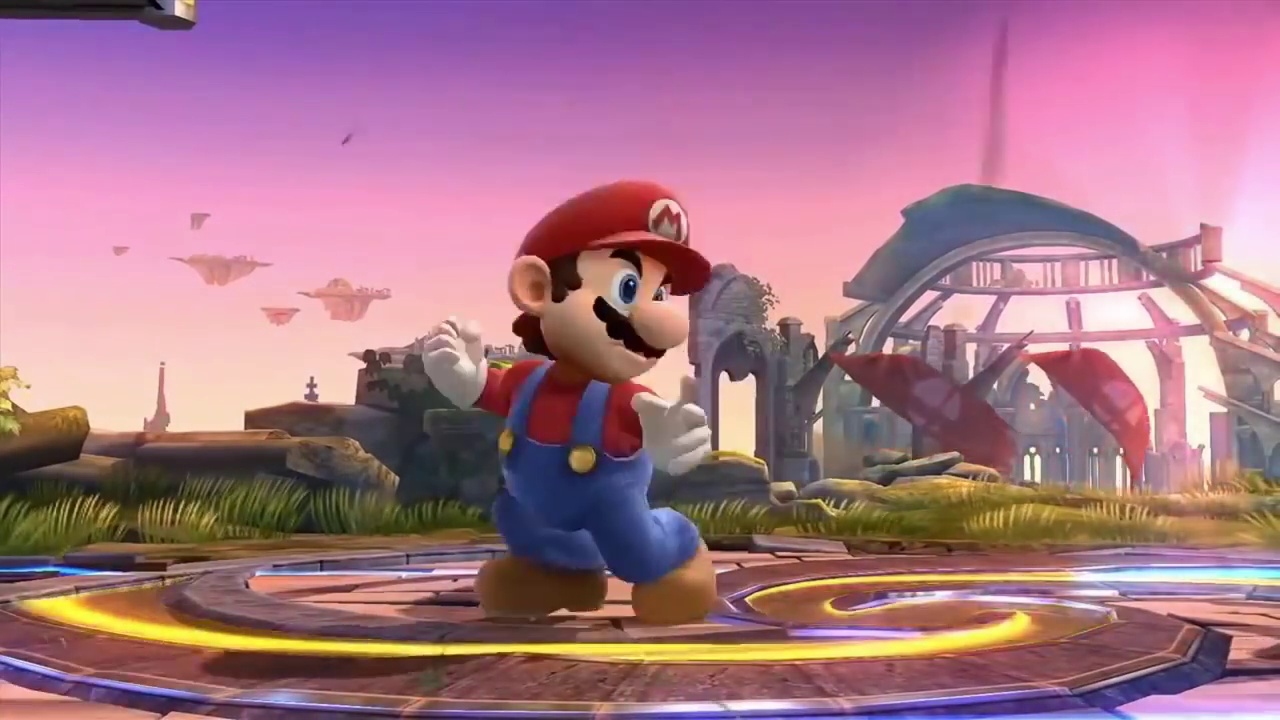Mario: (421, 179, 715, 622)
